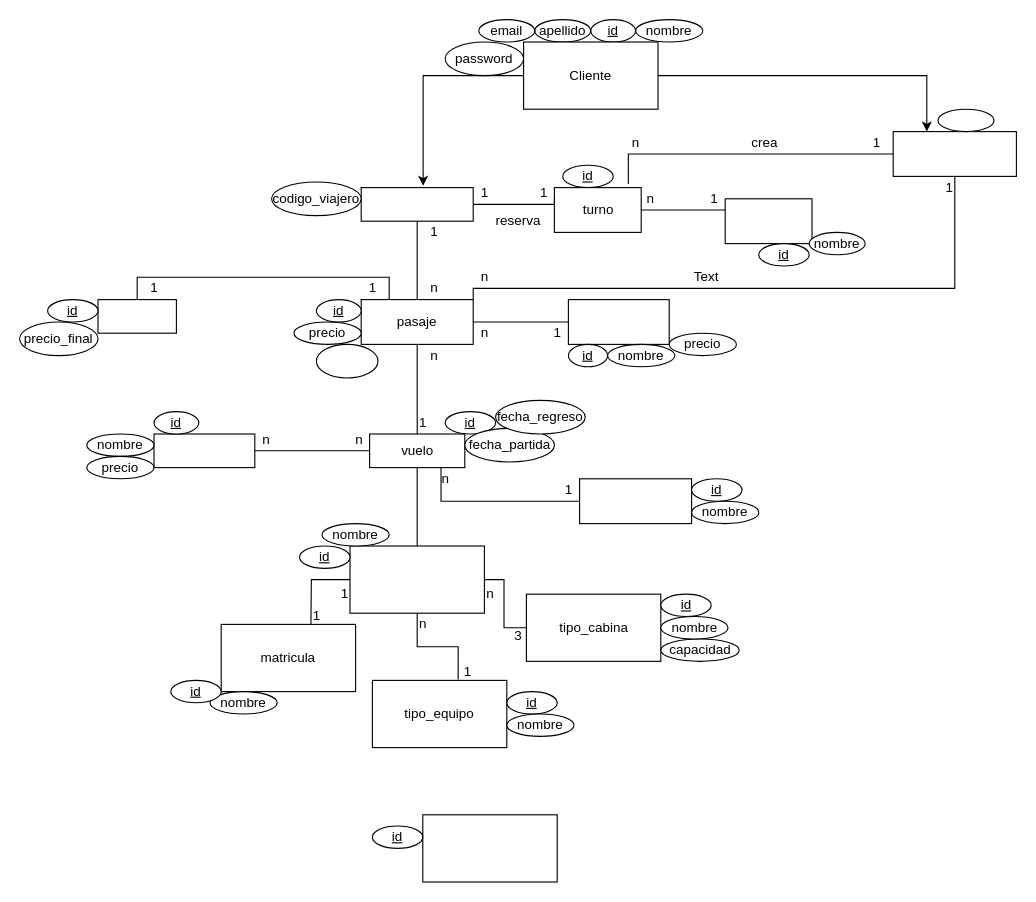
Some shapes in this 1036 by 902 pixel diagram are drawn without their labels. The shapes that lost their labels are listed below. From the top down, each one's centre as x and y in pixels, then its label:
pixel 965 120: sueldo
pixel 954 153: ClienteAdministrador
pixel 416 203: ClienteUsuario
pixel 768 221: centro_medico
pixel 136 315: pago
pixel 618 321: tipo_servicio
pixel 346 360: id_pago
pixel 204 450: destino
pixel 635 501: punto_partida
pixel 416 579: equipo
